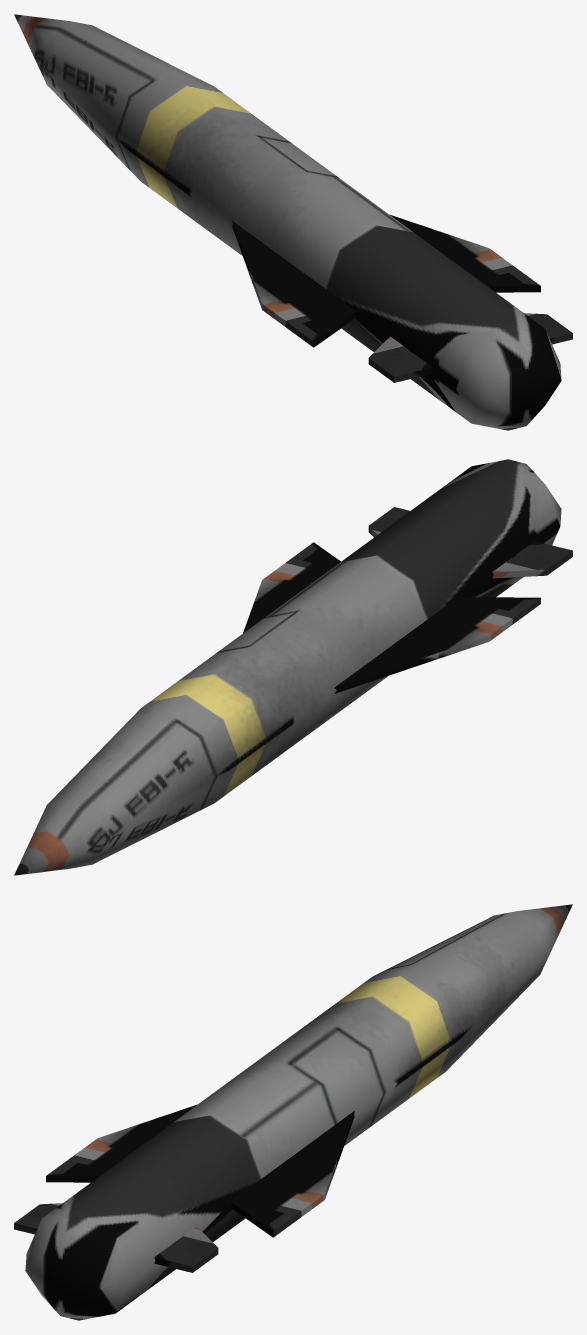
File: missile.fbx
3 views of the same model, one above another, from view 1: azimuth 30°, elevation 25°; view 2: azimuth 150°, elevation 25°; view 3: azimuth 330°, elevation 25° (orthographic).
Parts seen in each view (by area): view 1: PipelineFBX1, PipelineFBX0; view 2: PipelineFBX1, PipelineFBX0; view 3: PipelineFBX1, PipelineFBX0.
Part boxes in pixels (left/top/right/bottom): PipelineFBX1: left=14, top=14, right=572, bottom=397; PipelineFBX0: left=18, top=23, right=561, bottom=430; PipelineFBX1: left=14, top=459, right=572, bottom=875; PipelineFBX0: left=14, top=527, right=572, bottom=875; PipelineFBX1: left=14, top=904, right=572, bottom=1287; PipelineFBX0: left=14, top=913, right=568, bottom=1320.
Size of the model in its own units: 11.21 by 5.14 by 43.77.
1 material, 1 textured.
